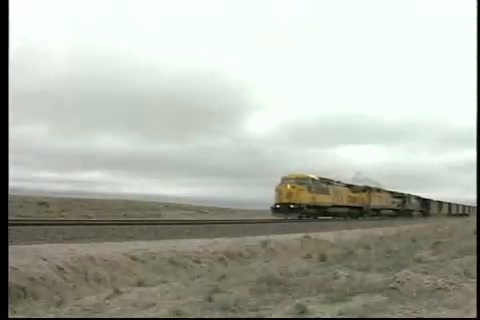train: (272, 173, 478, 224)
